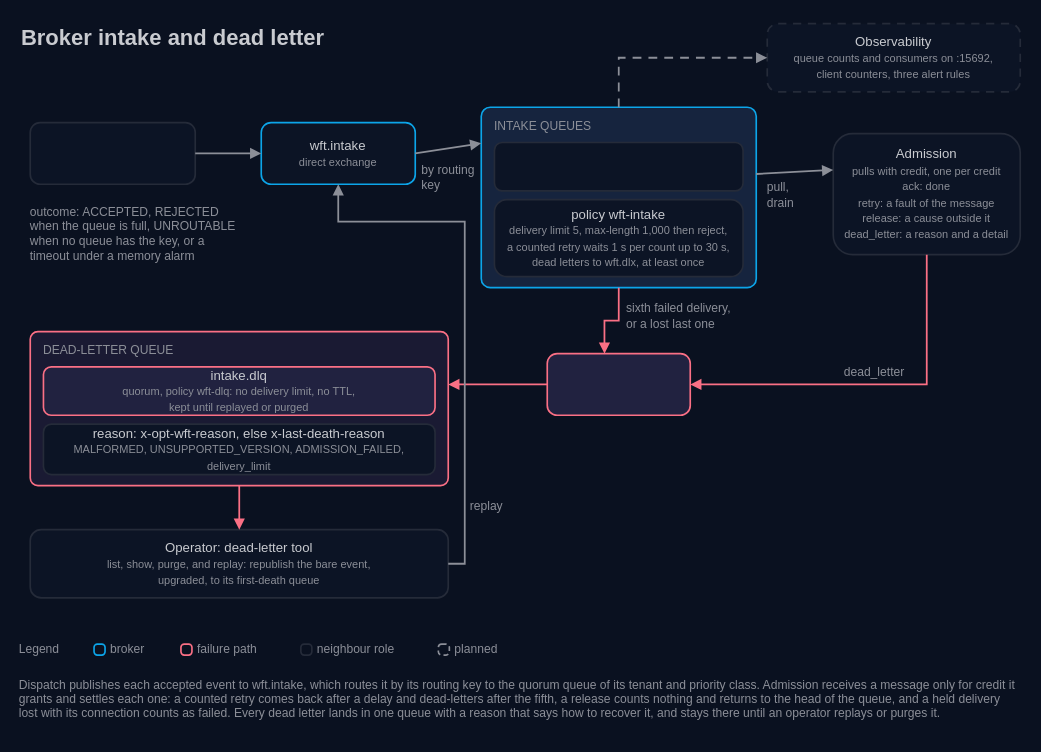
This 1041x752 diagram has some shape labels left out. The shapes that lost their labels are listed below. From the top down, each one's box as (x1, y1, x2, y2) in pixels, then its label:
(29, 121, 196, 185): Dispatch publishes each accepted event
(493, 141, 743, 191): intake.<tenant>.<class> quorum, one per tenant and class
(546, 352, 691, 416): wft.dlx fanout exchange
